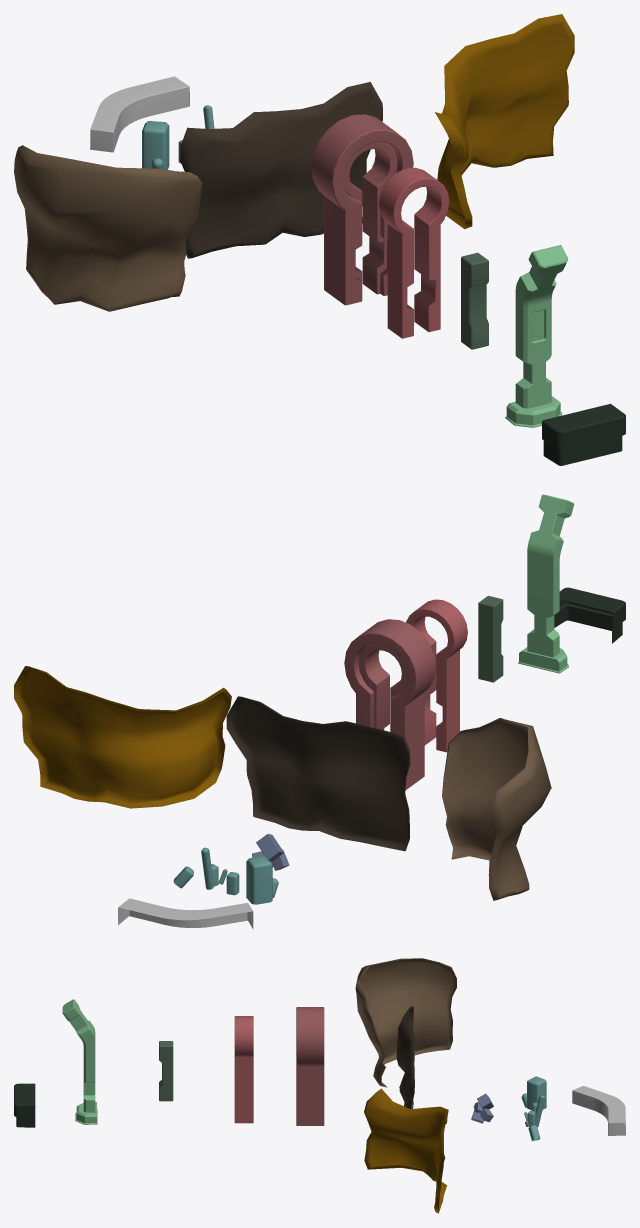
The model's file is Environment.fbx.
3 renders of one model, top to bottom at view 1: azimuth 30°, elevation 25°; view 2: azimuth 150°, elevation 25°; view 3: azimuth 270°, elevation 25°, orthographic. The views are drawn at different scales.
Parts seen in each view (by area): view 1: Rock_Wall_1, Rock_Wall_3, Rock_Wall_2, Gateway_Medium, Gateway_Small, Column_Large, Platform, Step_Huge, Column_Small, Rock_2; view 2: Rock_Wall_2, Rock_Wall_3, Rock_Wall_1, Gateway_Medium, Column_Large, Gateway_Small, Step_Huge, Rock_2, Platform, Column_Small, Rubble; view 3: Rock_Wall_1, Rock_Wall_2, Gateway_Medium, Gateway_Small, Column_Large, Rock_Wall_3, Step_Huge, Rock_2, Platform, Column_Small, Rubble.
Part boxes in pixels (x1,y1,x2,y2): Rock_Wall_1: (14,145,202,311); Rock_Wall_3: (180,82,382,258); Rock_Wall_2: (435,14,574,229); Gateway_Medium: (311,114,413,305); Gateway_Small: (379,167,449,338); Column_Large: (505,245,568,427); Platform: (542,403,625,465); Step_Huge: (90,76,189,152); Column_Small: (461,252,488,349); Rock_2: (142,105,214,169); Rock_Wall_2: (14,666,231,808); Rock_Wall_3: (226,696,410,851); Rock_Wall_1: (442,718,551,900); Gateway_Medium: (344,619,435,789); Column_Large: (518,494,574,673); Gateway_Small: (406,599,467,752); Step_Huge: (118,898,253,929); Rock_2: (173,847,278,904); Platform: (554,587,625,643); Column_Small: (478,595,503,682); Rubble: (252,834,289,870); Rock_Wall_1: (355,958,456,1087); Rock_Wall_2: (364,1088,448,1213); Gateway_Medium: (296,1007,324,1125); Gateway_Small: (234,1016,253,1123); Column_Large: (62,999,97,1124); Rock_Wall_3: (396,1006,415,1108); Step_Huge: (572,1086,625,1135); Rock_2: (521,1076,546,1141); Platform: (14,1083,35,1127); Column_Small: (159,1041,173,1101); Rubble: (471,1093,493,1123).
Size of the model in its own units: 53.94 by 17.73 by 78.99.
